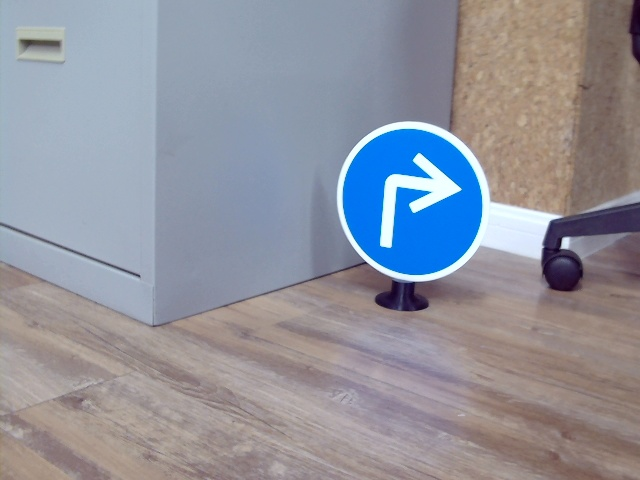turn_right: (372, 152, 457, 253)
